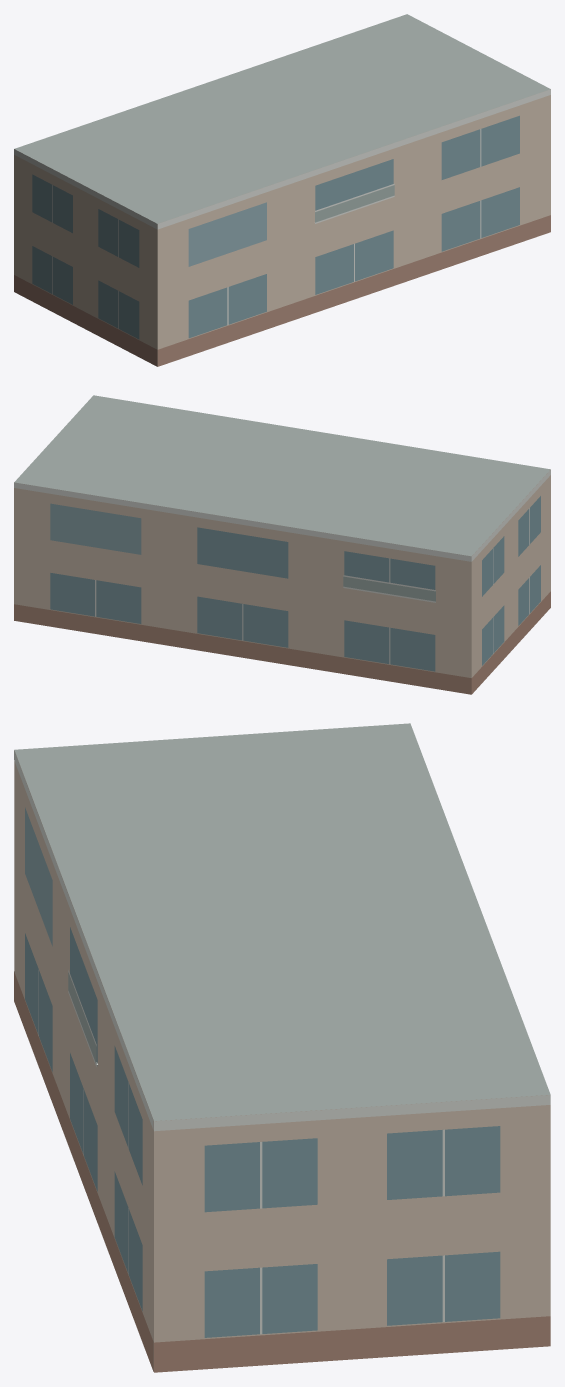
Rendered from survey-upis-32994219.glb.
3 renders of one model, top to bottom at view 1: azimuth 30°, elevation 25°; view 2: azimuth 150°, elevation 25°; view 3: azimuth 270°, elevation 25°, orthographic. The views are drawn at different scales.
Visible parts, largest first — view 1: survey-upis-32994219.tmp; view 2: survey-upis-32994219.tmp; view 3: survey-upis-32994219.tmp.
Part boxes in pixels (bbox=[...]): survey-upis-32994219.tmp: bbox=[14, 14, 550, 366]; survey-upis-32994219.tmp: bbox=[14, 395, 550, 694]; survey-upis-32994219.tmp: bbox=[14, 723, 550, 1372].
Bounding box in the file's own units: 20.72 × 6.1 × 11.81.
